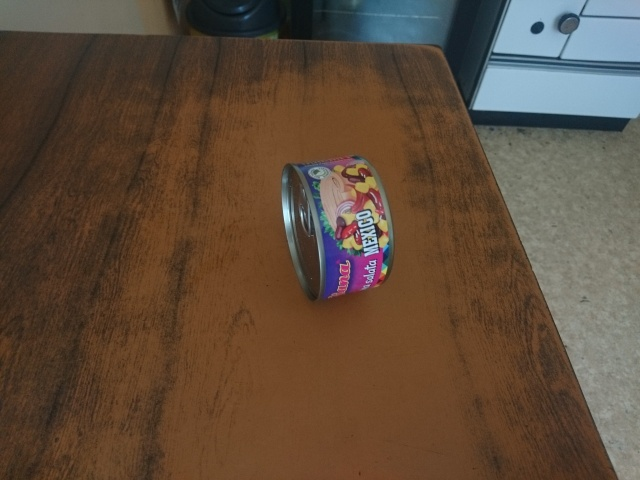Giana Tuna Salad Mexico 185g: (278, 151, 396, 304)
